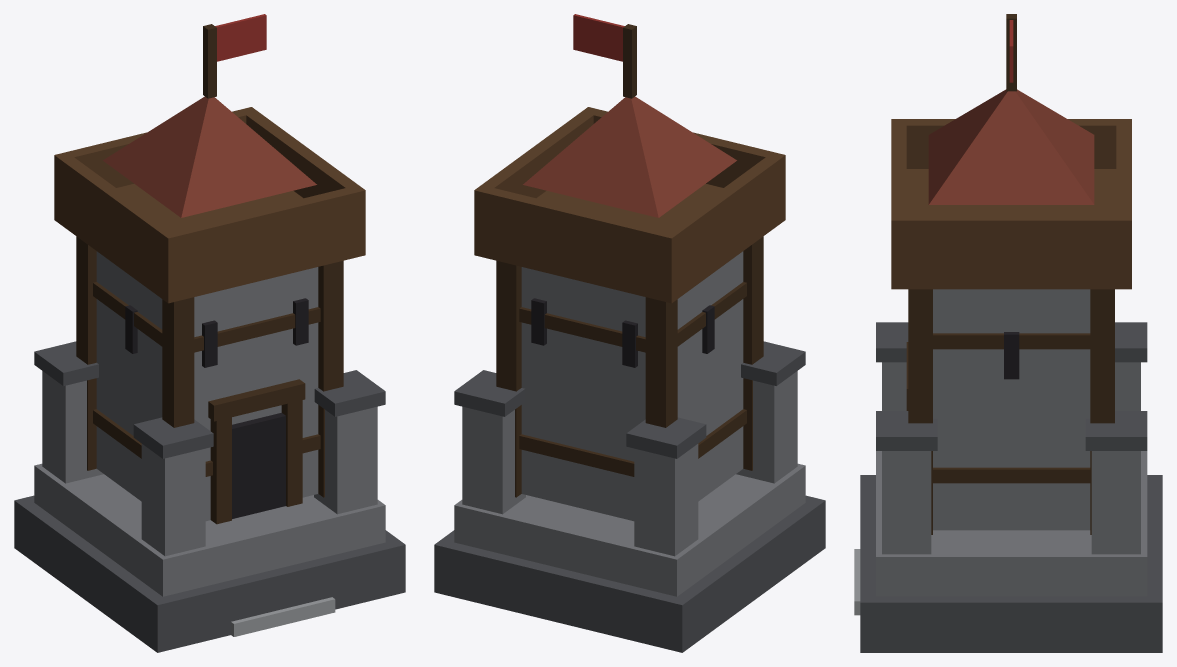
Rendered from base_l2_lowpoly.glb.
3 views of the same model, side by side, from view 1: azimuth 30°, elevation 25°; view 2: azimuth 150°, elevation 25°; view 3: azimuth 270°, elevation 25° (orthographic). The views are drawn at different scales.
Parts seen in each view (by area): view 1: WORK_base; view 2: WORK_base; view 3: WORK_base.
Boxes of the visible parts, left/top/right/bottom form: WORK_base: left=14, top=14, right=405, bottom=652; WORK_base: left=434, top=14, right=825, bottom=652; WORK_base: left=854, top=14, right=1162, bottom=652.
Size of the model in its own units: 0.98 by 2.05 by 1.
